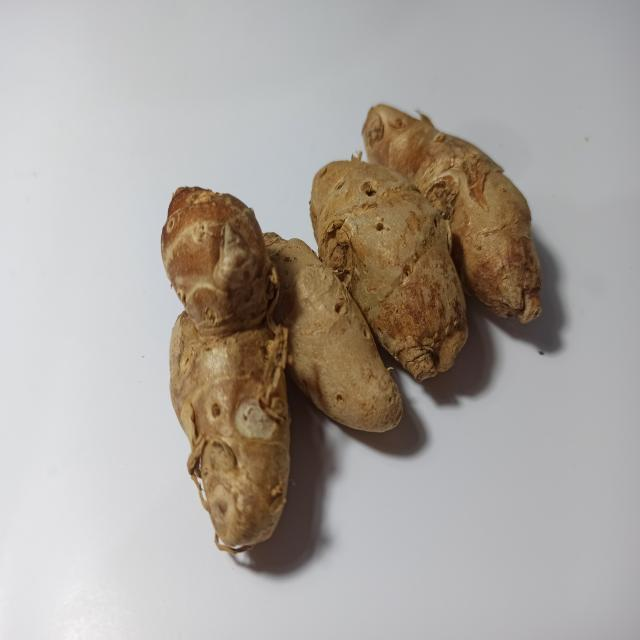ginger: (159, 106, 532, 540)
